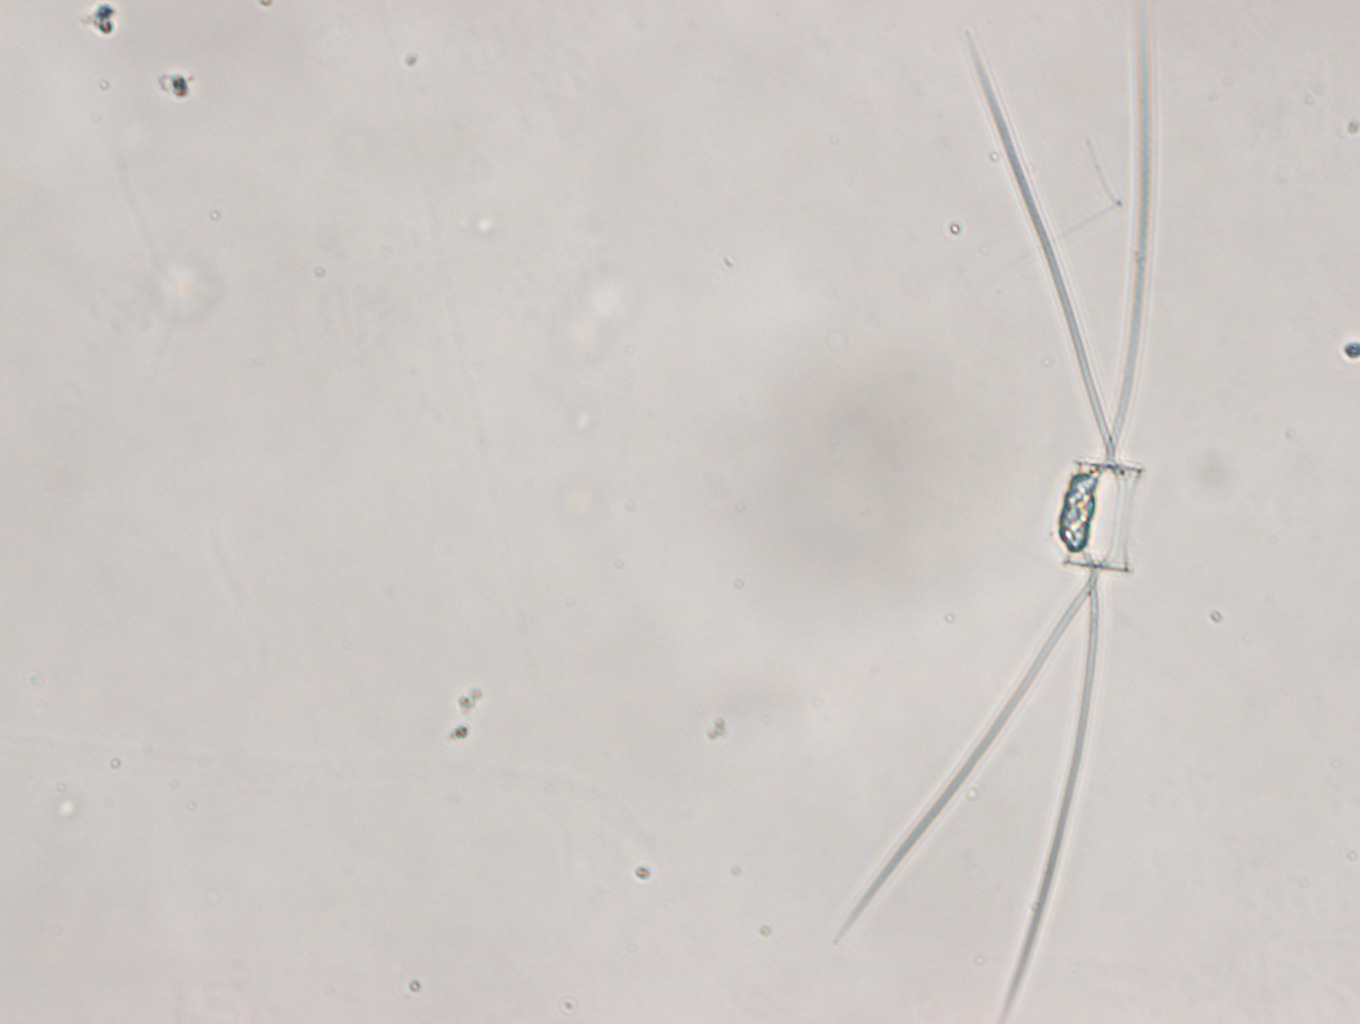chaetoceros: (826, 1, 1151, 1024)
